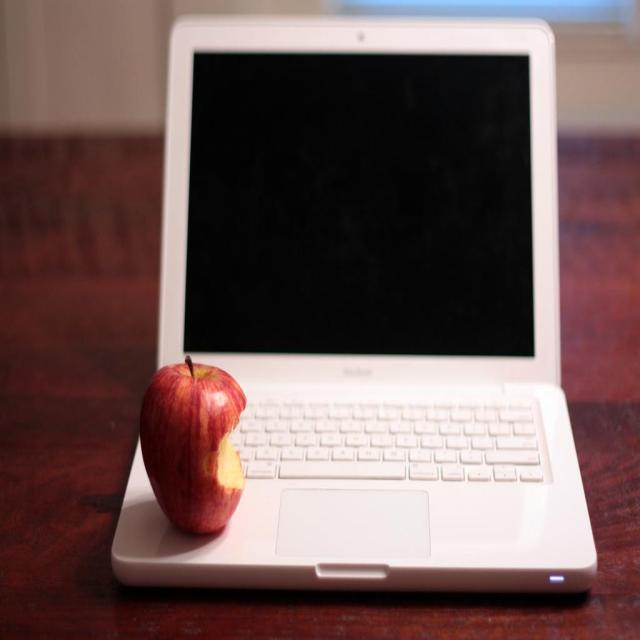laptop: (124, 17, 591, 598)
